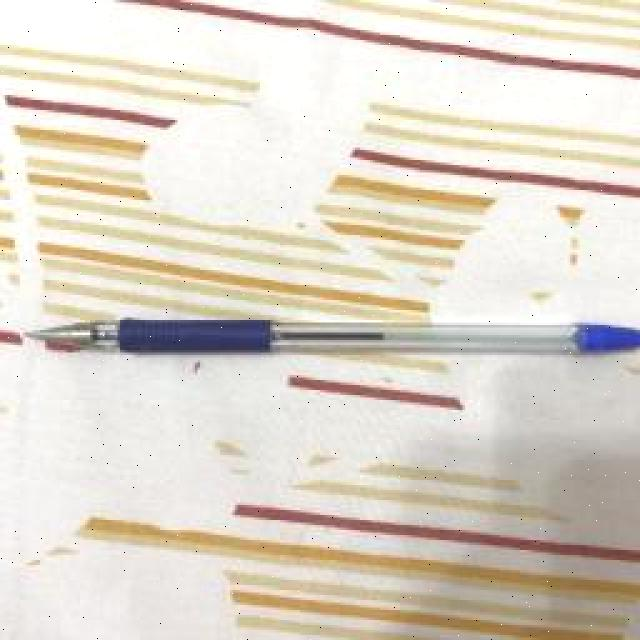pen: (25, 318, 635, 356)
